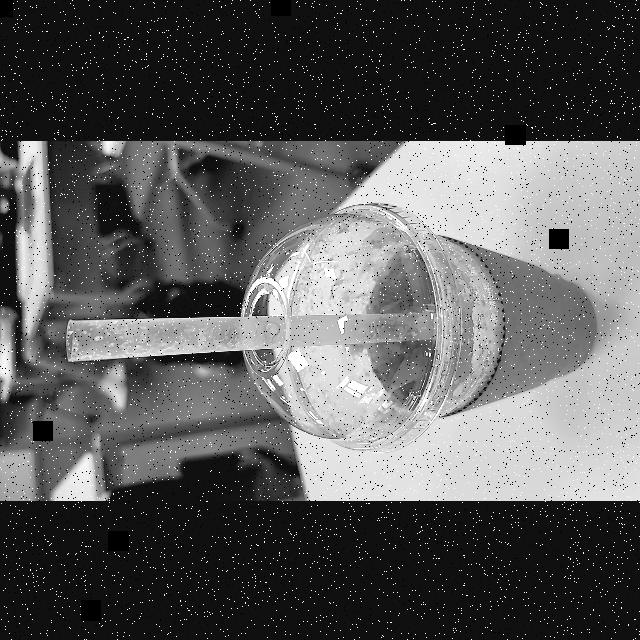plastic_cup: (240, 194, 596, 456)
plastic_cup_lid: (240, 197, 456, 459)
straw: (63, 294, 440, 364)
